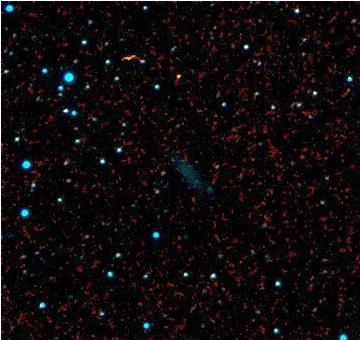star: (162, 61, 192, 91)
